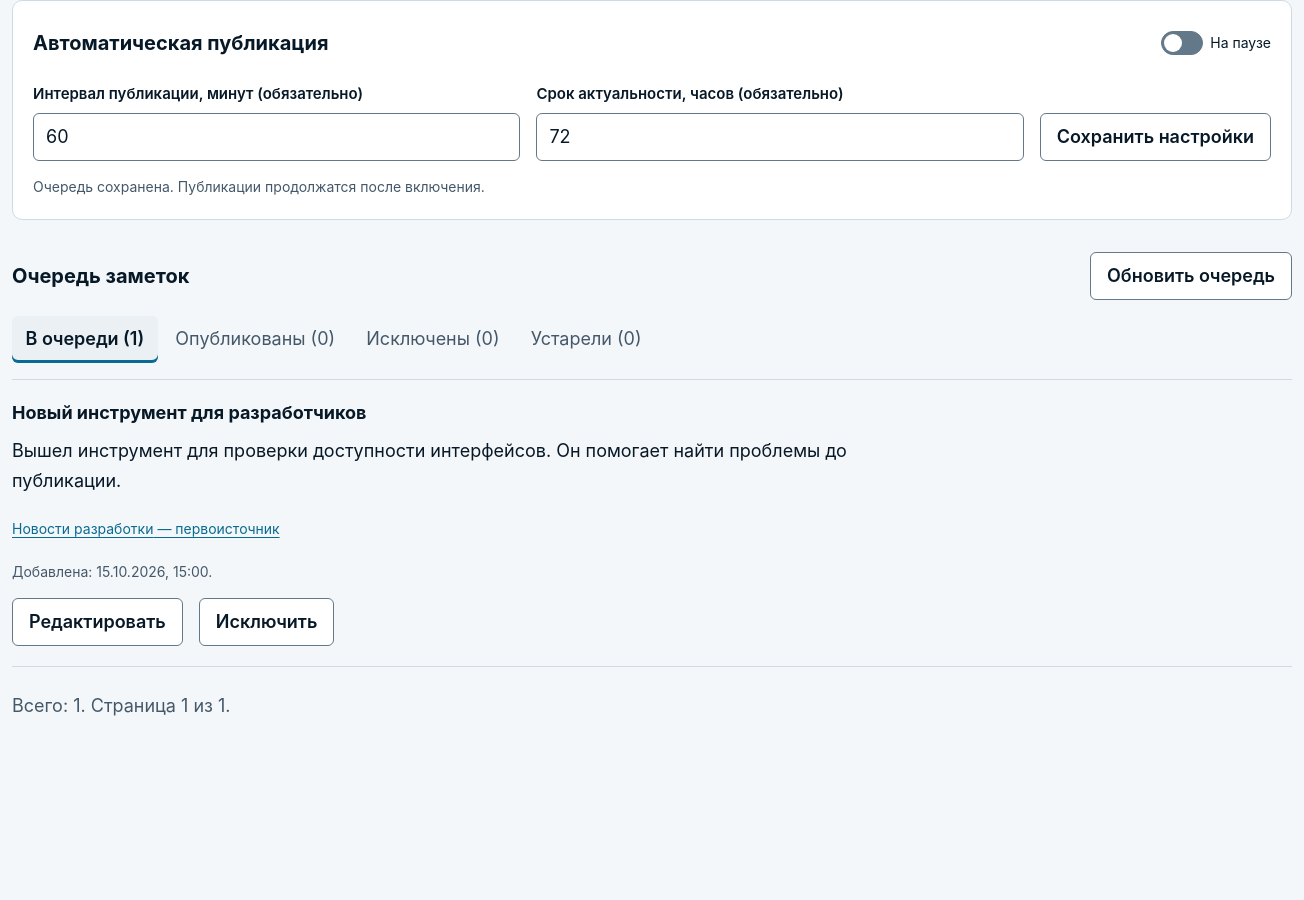
note queue actions and editing › uses the note slug for exclusion and returns focus to the queue heading
Step 1. Click the button "Исключить" → (267, 622), box [199, 598, 334, 646]
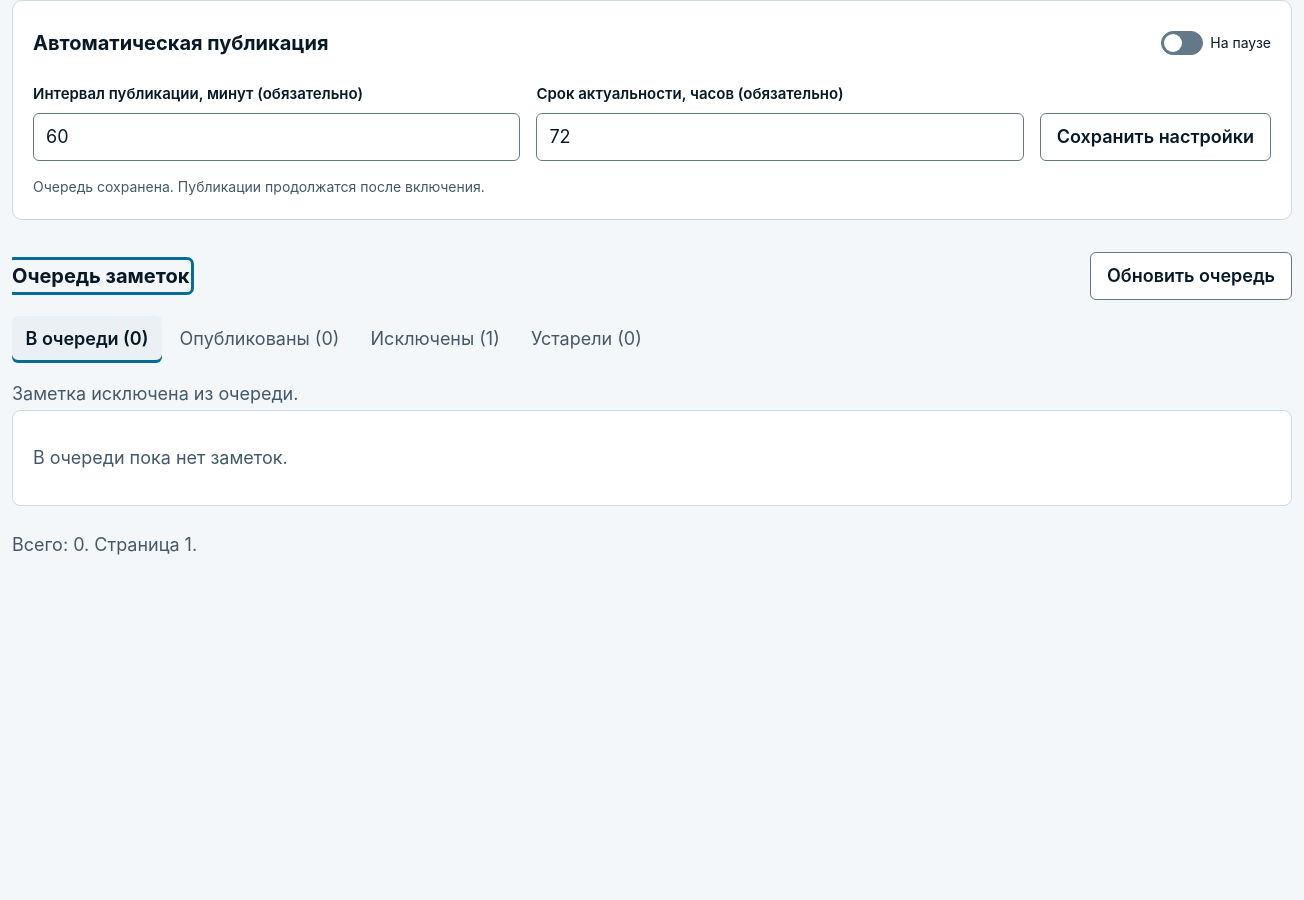
Now the text "Заметка исключена из очереди." is shown, box [12, 383, 298, 404]
Now the link "Исключены (1)" is shown, box [370, 328, 500, 350]
Now the heading "Новый инструмент для разработчиков" is gone
